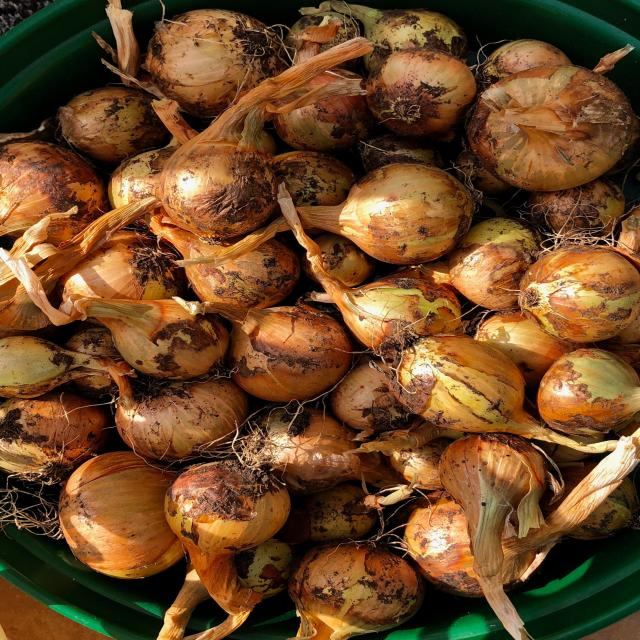onion: (474, 65, 636, 188), (61, 449, 186, 579), (148, 8, 288, 118), (345, 162, 474, 266), (408, 501, 540, 601), (396, 334, 526, 433), (161, 139, 281, 245), (289, 543, 424, 633), (0, 140, 110, 248), (228, 306, 351, 400), (166, 460, 291, 548), (528, 245, 640, 342), (366, 47, 480, 137), (116, 380, 248, 456), (110, 296, 228, 380), (182, 230, 298, 308), (251, 402, 350, 492), (272, 63, 371, 152), (1, 398, 108, 479), (347, 279, 474, 347), (68, 230, 181, 306), (538, 349, 640, 433), (440, 431, 549, 502), (452, 218, 533, 311), (60, 87, 166, 157), (0, 336, 110, 399), (532, 181, 627, 244), (365, 7, 468, 60), (268, 152, 359, 209), (336, 363, 412, 431), (304, 238, 371, 289)
